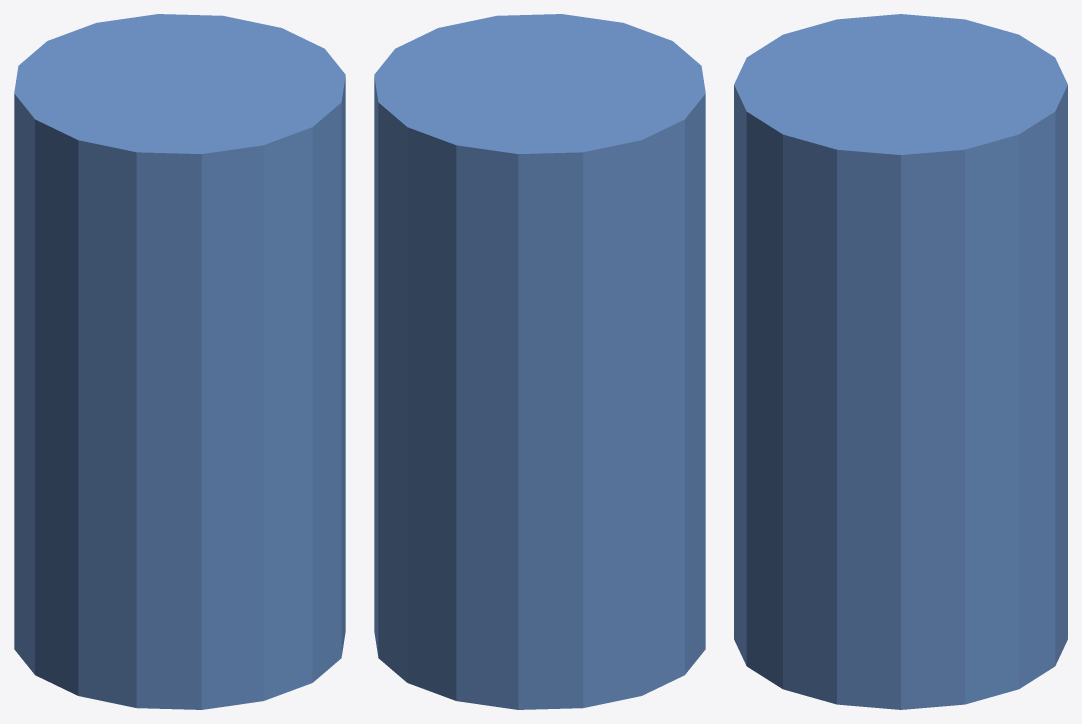
Rendered from cover_barrel_0p6x1p1.glb.
The picture shows the model from 3 angles, left to right: view 1: azimuth 30°, elevation 25°; view 2: azimuth 150°, elevation 25°; view 3: azimuth 270°, elevation 25°; orthographic projection.
Visible parts, largest first — view 1: cover_barrel_0p6x1p1; view 2: cover_barrel_0p6x1p1; view 3: cover_barrel_0p6x1p1.
Part boxes in pixels (bbox=[...]): cover_barrel_0p6x1p1: bbox=[14, 14, 345, 709]; cover_barrel_0p6x1p1: bbox=[374, 14, 705, 709]; cover_barrel_0p6x1p1: bbox=[734, 14, 1067, 709].
Size of the model in its own units: 0.6 by 1.1 by 0.6.
